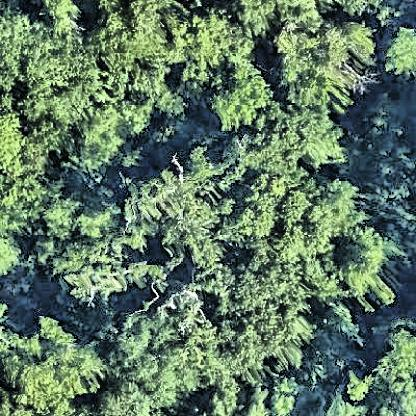tree-top: (147, 150, 238, 274), (2, 308, 103, 412), (275, 18, 377, 117), (235, 180, 341, 263), (217, 272, 307, 368), (38, 187, 130, 278), (226, 111, 343, 178), (18, 34, 103, 125), (115, 319, 205, 404), (343, 323, 416, 413), (171, 5, 254, 78), (1, 110, 41, 253), (96, 1, 170, 78), (208, 54, 270, 130), (78, 105, 147, 168), (337, 226, 388, 296), (380, 22, 416, 78), (266, 386, 295, 416)
